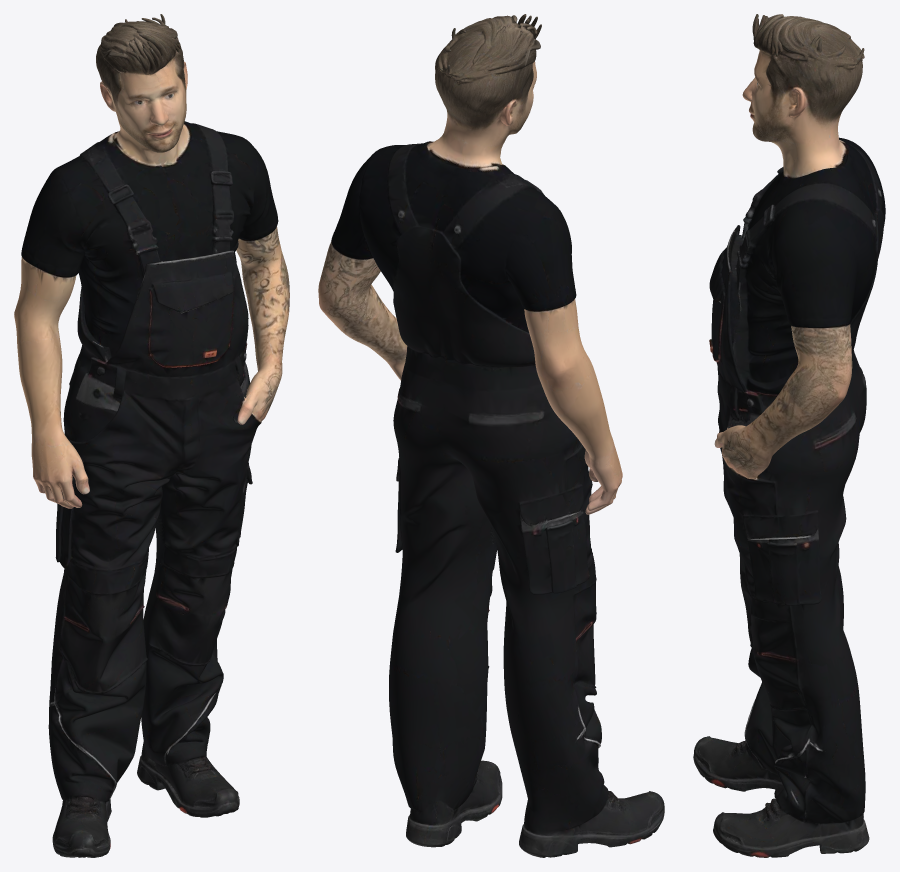
Rendered from meshy-model-2.glb.
The picture shows the model from 3 angles, left to right: view 1: azimuth 30°, elevation 25°; view 2: azimuth 150°, elevation 25°; view 3: azimuth 270°, elevation 25°; orthographic projection. The views are drawn at different scales.
Size of the model in its own units: 0.693 by 1.9 by 0.412.
Materials: 1 (1 with a texture image).
